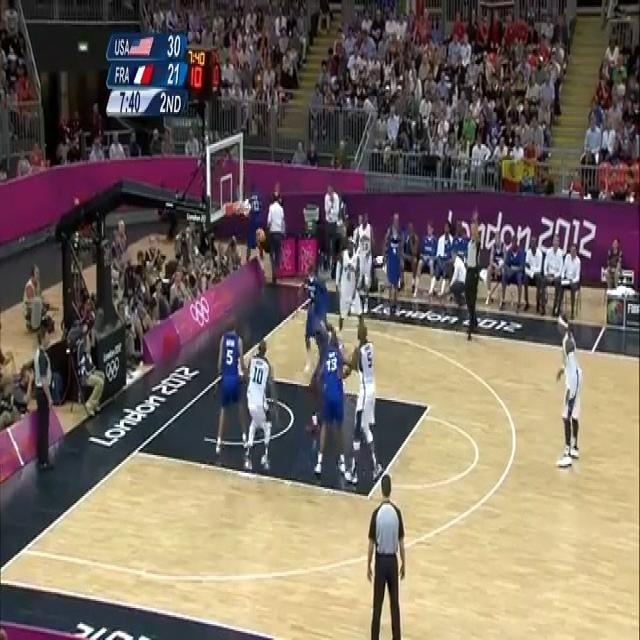hoop: (227, 202, 247, 230)
